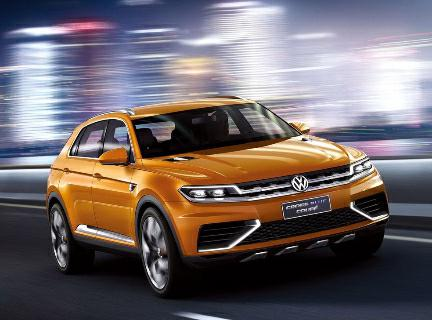大众-CrossBlue: (41, 89, 402, 297)
